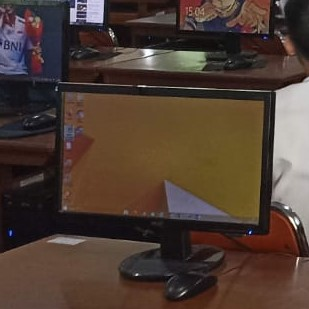monitor: (52, 82, 277, 239), (0, 0, 70, 121), (176, 0, 275, 39), (2, 0, 110, 31), (69, 0, 109, 31)
